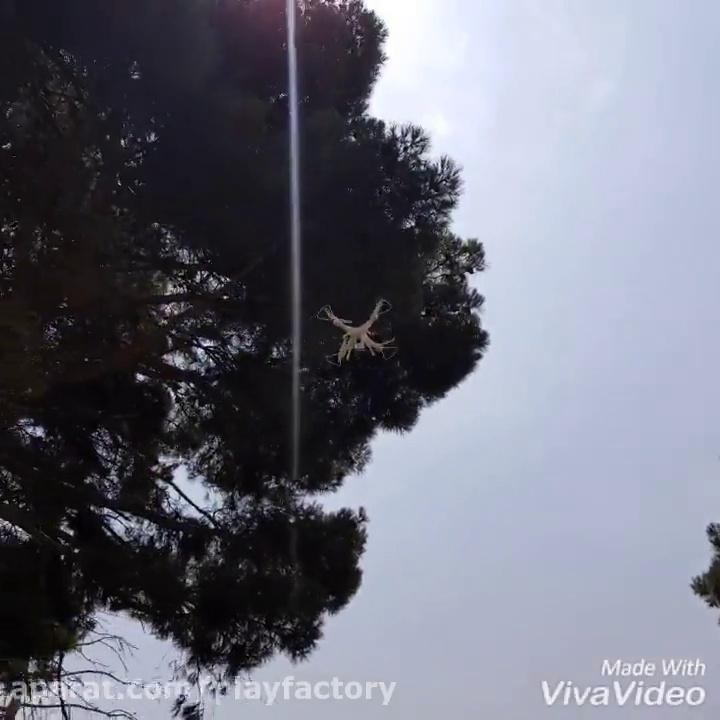drone: (317, 297, 396, 365)
